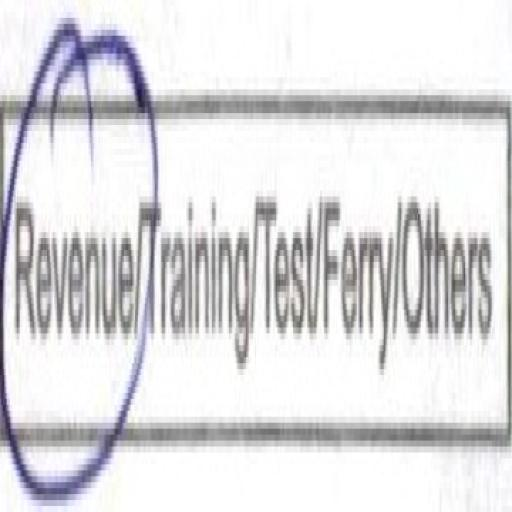check: (0, 48, 135, 506)
